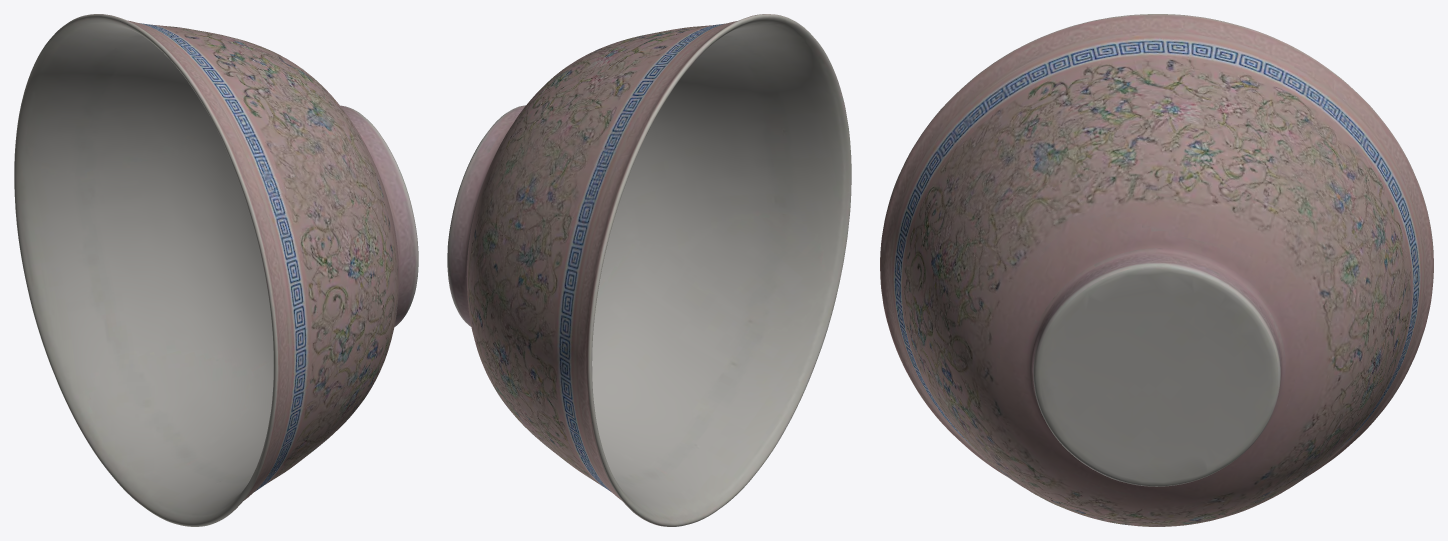
The model's file is 琺瑯彩粉地剔花番蓮紋碗.glb.
3 views of the same model, side by side, from view 1: azimuth 30°, elevation 25°; view 2: azimuth 150°, elevation 25°; view 3: azimuth 270°, elevation 25° (orthographic). The views are drawn at different scales.
Parts seen in each view (by area): view 1: tripo_node_7866ab4e; view 2: tripo_node_7866ab4e; view 3: tripo_node_7866ab4e.
Part boxes in pixels (x1,y1,x2,y2): tripo_node_7866ab4e: (14,14,418,526); tripo_node_7866ab4e: (447,14,851,526); tripo_node_7866ab4e: (880,14,1433,526).
Bounding box in the file's own units: 0.4699 × 0.9796 × 0.9783.
Materials: 1 (1 with a texture image).
